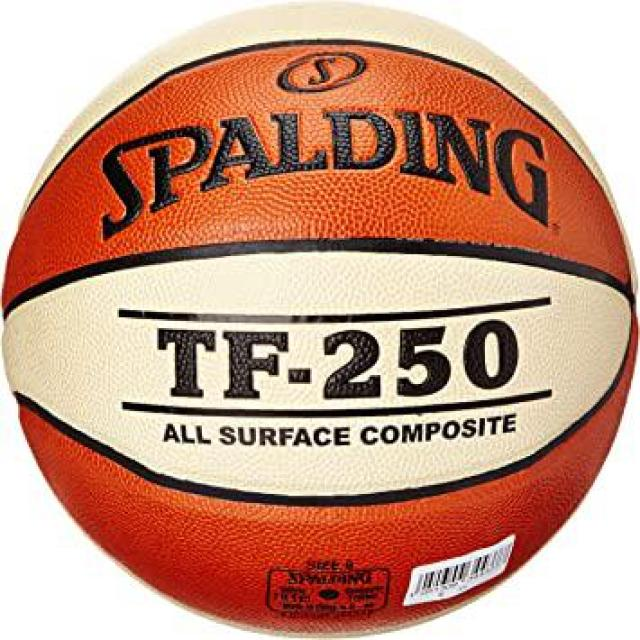ball: (10, 7, 634, 631)
